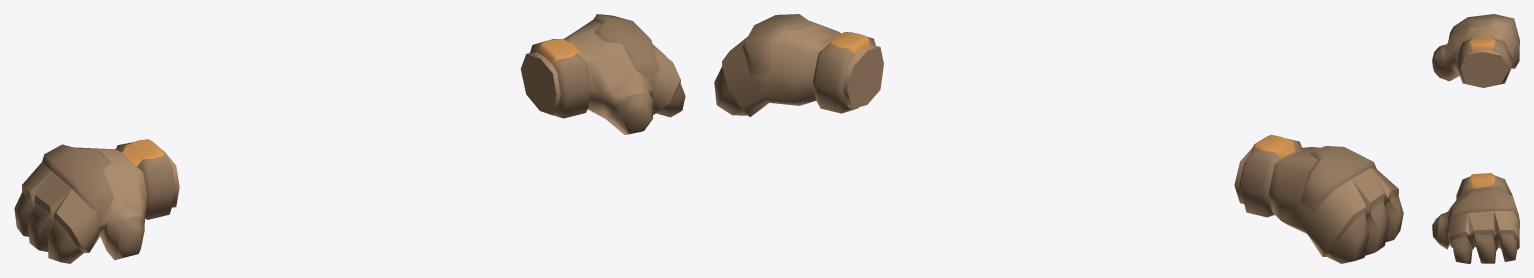
Rendered from Glove_4.fbx.
3 renders of one model, left to right at view 1: azimuth 30°, elevation 25°; view 2: azimuth 150°, elevation 25°; view 3: azimuth 270°, elevation 25°, orthographic. The views are drawn at different scales.
Parts seen in each view (by area): view 1: Glove_4; view 2: Glove_4; view 3: Glove_4.
Part boxes in pixels (bbox=[...]): Glove_4: bbox=[14, 14, 685, 263]; Glove_4: bbox=[714, 14, 1403, 263]; Glove_4: bbox=[1432, 14, 1519, 263].
Size of the model in its own units: 138 by 18.84 by 24.6.
